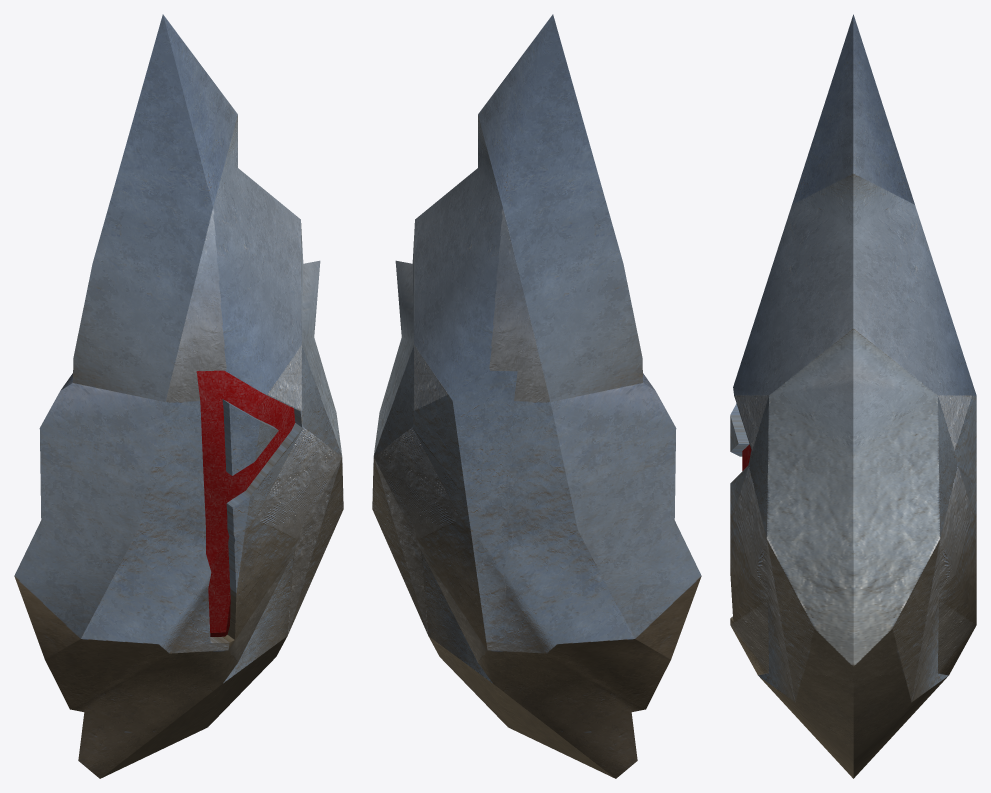
The model's file is Whirlwind_Víðarr.fbx.
3 views of the same model, side by side, from view 1: azimuth 30°, elevation 25°; view 2: azimuth 150°, elevation 25°; view 3: azimuth 270°, elevation 25° (orthographic). The views are drawn at different scales.
Visible parts, largest first — view 1: E_Freya's Wisdom; view 2: E_Freya's Wisdom; view 3: E_Freya's Wisdom.
Part boxes in pixels (x1,y1,x2,y2): E_Freya's Wisdom: (14, 14, 343, 778); E_Freya's Wisdom: (372, 14, 701, 778); E_Freya's Wisdom: (730, 14, 976, 778).
Size of the model in its own units: 33.15 by 73.71 by 21.42.
Materials: 1 (1 with a texture image).
